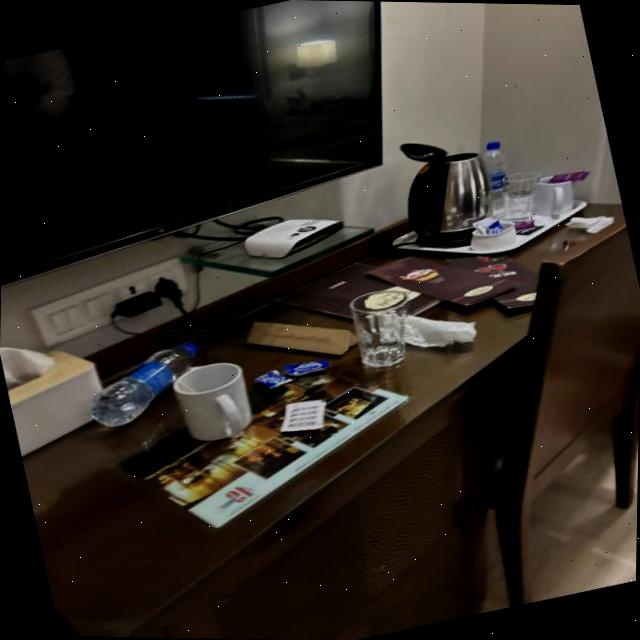chair: (494, 226, 639, 605)
mess: (91, 335, 202, 446), (250, 351, 332, 441), (446, 203, 537, 265), (400, 314, 476, 350), (550, 211, 612, 238)
messy_table: (11, 182, 640, 635)
